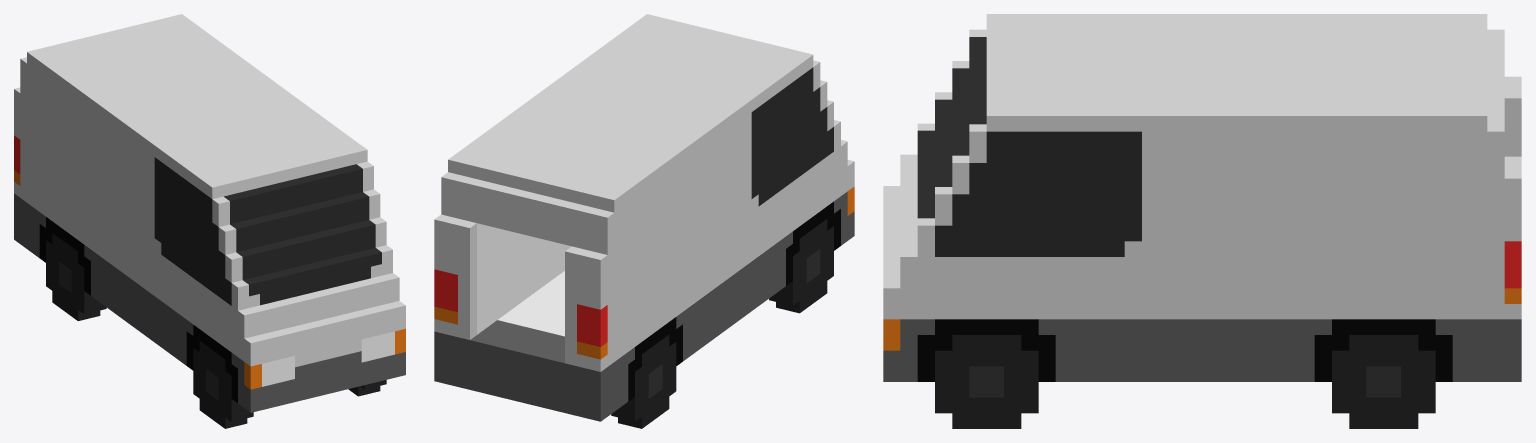
The model's file is van white.obj.
3 renders of one model, left to right at view 1: azimuth 30°, elevation 25°; view 2: azimuth 150°, elevation 25°; view 3: azimuth 270°, elevation 25°, orthographic. The views are drawn at different scales.
Size of the model in its own units: 1.4 by 2 by 3.7.
1 material, 1 textured.
